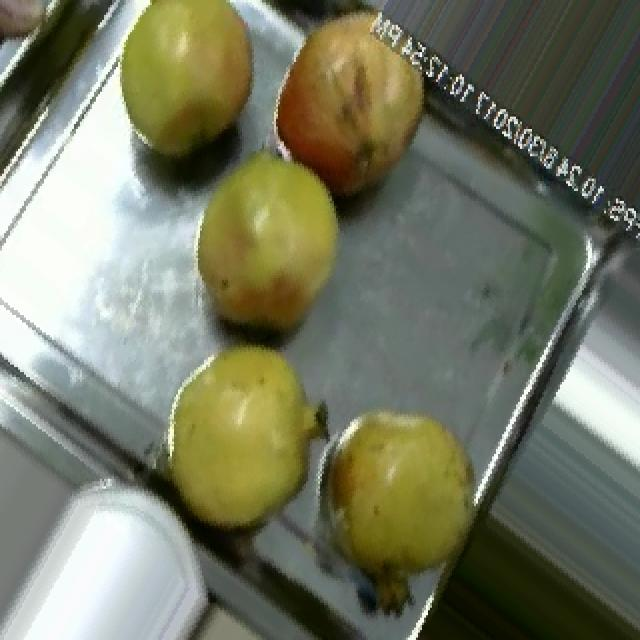fruit: (124, 318, 352, 568), (292, 380, 506, 638), (176, 124, 368, 352), (252, 0, 450, 216), (86, 0, 282, 186)
